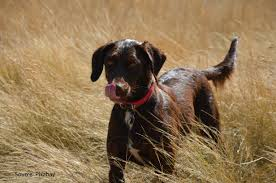dog: (102, 58, 146, 103)
